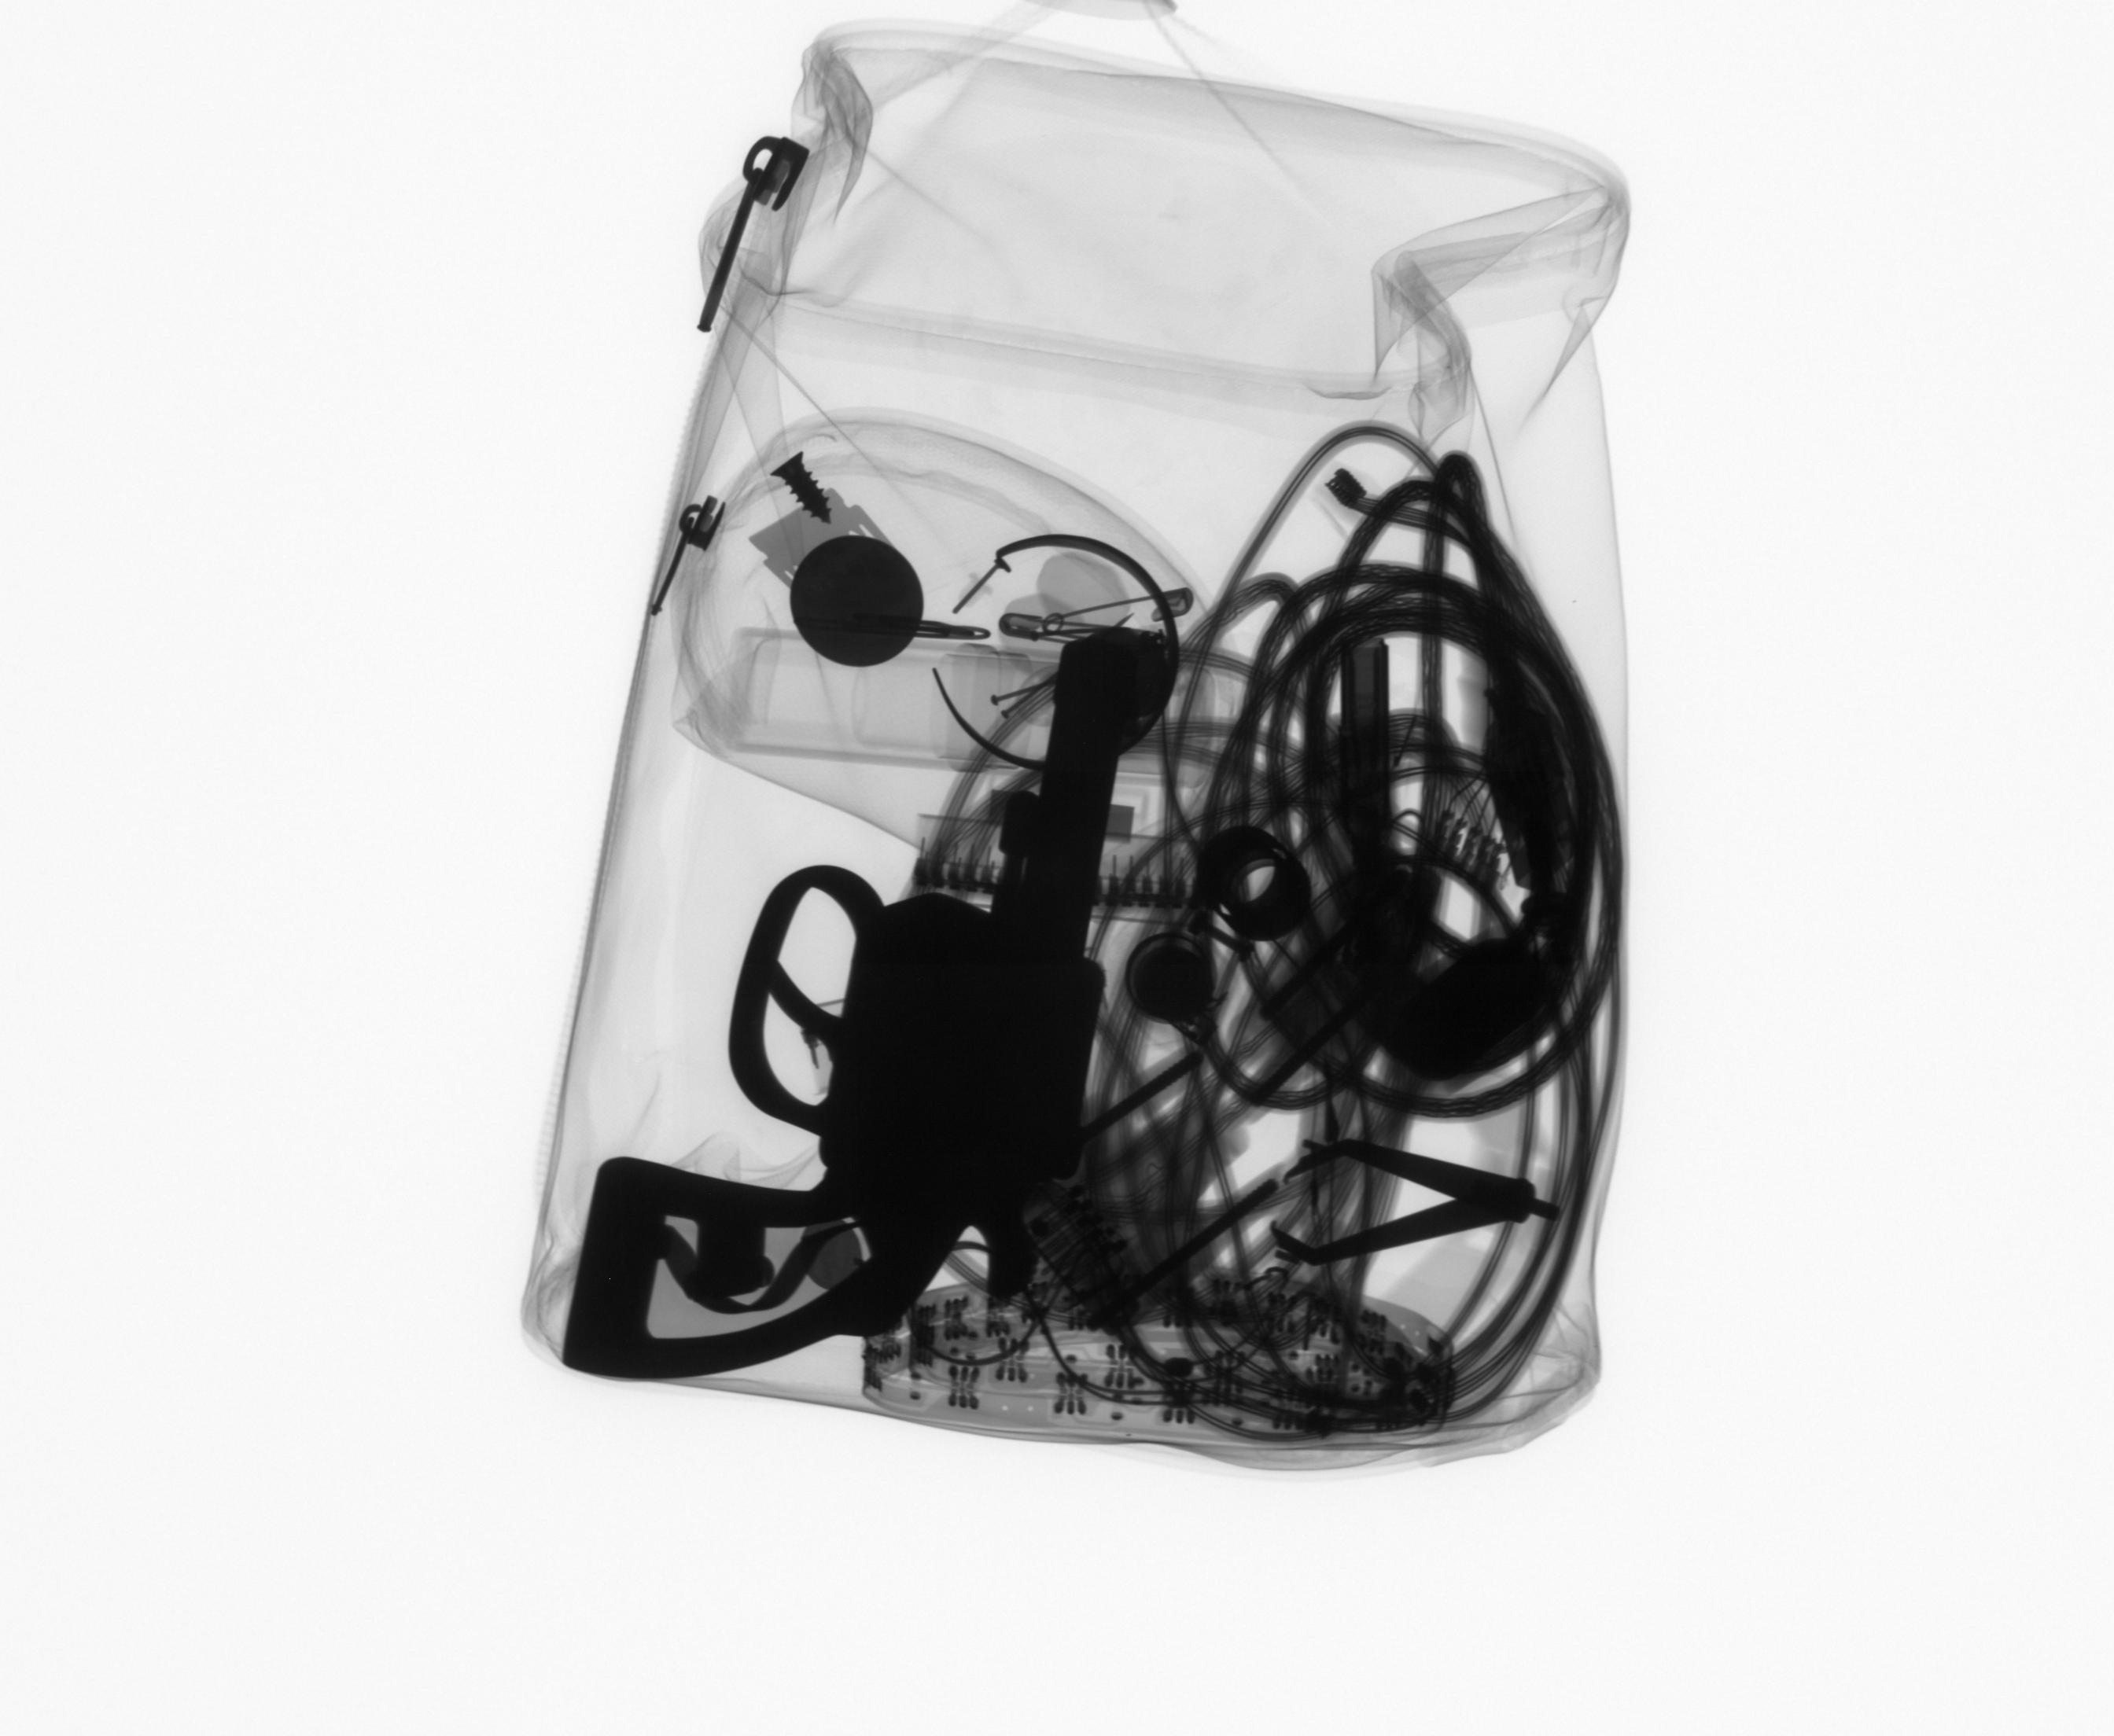Handgun: (556, 620, 1158, 1385)
